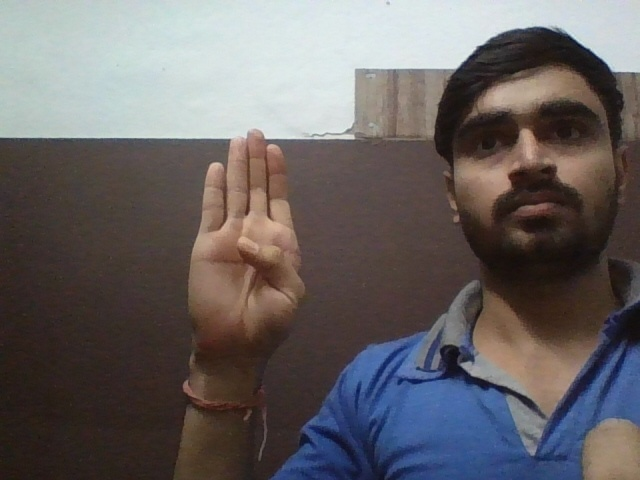B: (184, 129, 306, 355)
